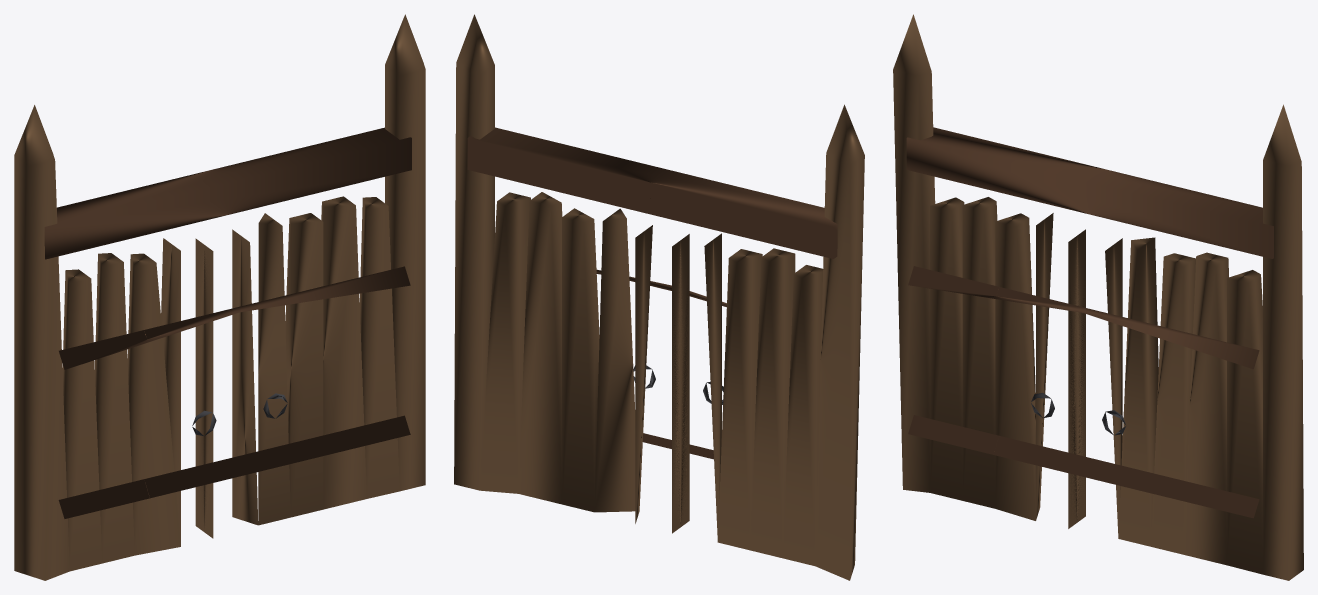
Rendered from palisade_gate_lod1.glb.
3 renders of one model, left to right at view 1: azimuth 30°, elevation 25°; view 2: azimuth 150°, elevation 25°; view 3: azimuth 330°, elevation 25°, orthographic.
Size of the model in its own units: 3.95 by 4.4 by 0.49.
